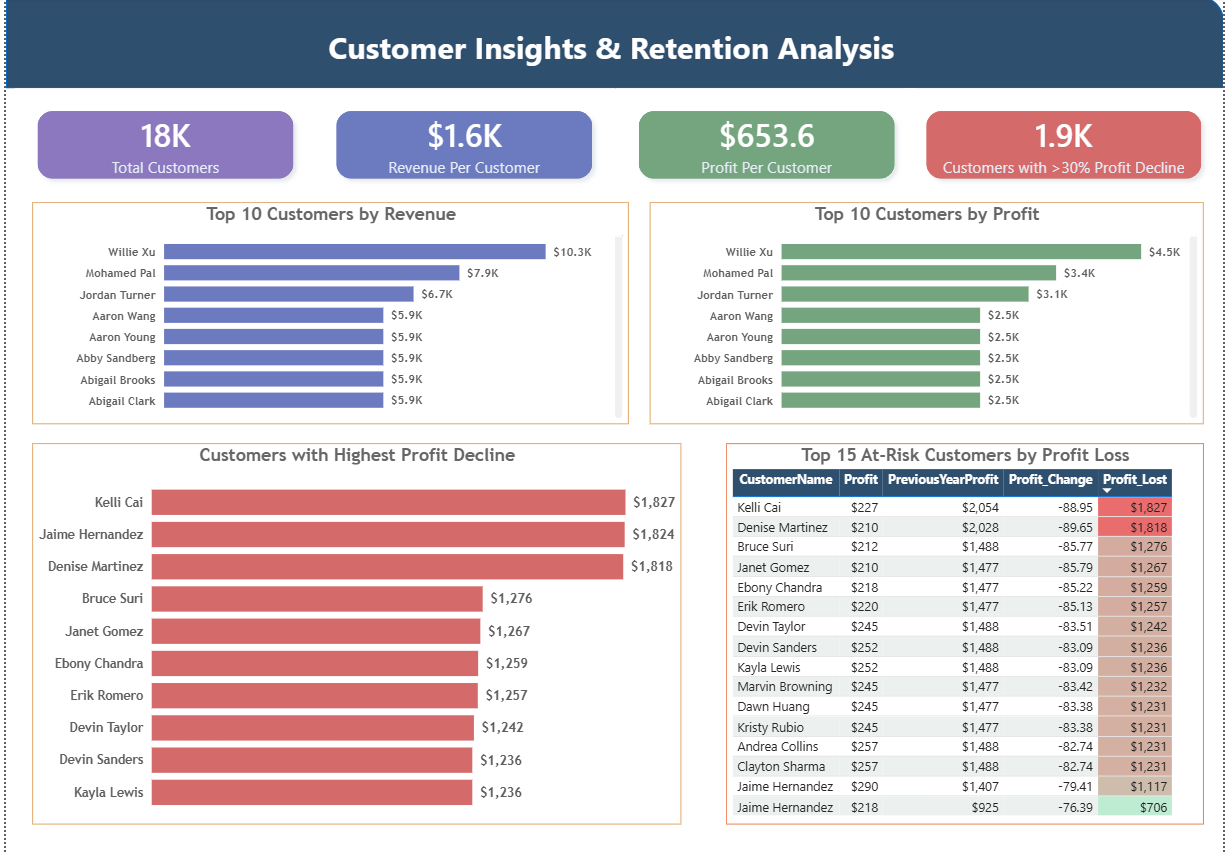

This screenshot's page, from the dashboard's own definition file:
{"tool":"powerbi","page":{"name":"Customer Insights & Retention Analysis","canvas":[1280,900],"ordinal":2},"visuals":[{"type":"shape","box":[0,0,1280.3,96.2],"z":0},{"type":"cardVisual","fields":{"Data":["Measure Table 1.Customers"]},"box":[8.7,96.2,317.3,119.9],"z":1000},{"type":"cardVisual","fields":{"Data":["measure Table 3.Revenue Per Customer"]},"box":[323.5,96.2,317.3,119.9],"z":2000},{"type":"cardVisual","fields":{"Data":["measure Table 3.Profit Per Customer"]},"box":[640.8,96.2,317.3,119.9],"z":3000},{"type":"cardVisual","fields":{"Data":["measure Table 3.Customers with >30% Profit Decline"]},"box":[943,96.2,337.2,119.9],"z":4000},{"type":"clusteredBarChart","title":"Top 10 Customers by Revenue","fields":{"Category":["DimCustomer.Full Name"],"Y":["Measure Table 1.Revenue"]},"box":[27.5,216.1,627,233.6],"z":5000},{"type":"clusteredBarChart","title":"Top 10 Customers by Profit","fields":{"Category":["DimCustomer.Full Name"],"Y":["Measure Table 1.Profit"]},"box":[677,216.1,582,233.6],"z":6000},{"type":"clusteredBarChart","title":"Customers with Highest Profit Decline","fields":{"Category":["vw_CustomerProfitDecline.CustomerName"],"Y":["Sum(vw_CustomerProfitDecline.Profit_Lost)"]},"box":[27.6,469.2,682.1,400.8],"z":7000},{"type":"tableEx","title":"Top 15 At-Risk Customers by Profit Loss","fields":{"Values":["vw_CustomerProfitDecline.CustomerName","vw_CustomerProfitDecline.Profit","vw_CustomerProfitDecline.PreviousYearProfit","vw_CustomerProfitDecline.Profit_Change","vw_CustomerProfitDecline.Profit_Lost"]},"box":[757,469.2,502,400.8],"z":8000}]}

Visuals, with their boxes in screenshot pixels (x1, y1, x2, y2), scaled from the page's 1280x900 canvas onto the 1225x853 screenshot:
shape: (0,0,1224,91)
cardVisual - Measure Table 1.Customers: (8,91,312,205)
cardVisual - measure Table 3.Revenue Per Customer: (310,91,613,205)
cardVisual - measure Table 3.Profit Per Customer: (613,91,917,205)
cardVisual - measure Table 3.Customers with >30% Profit Decline: (902,91,1224,205)
"Top 10 Customers by Revenue" clusteredBarChart: (26,205,626,426)
"Top 10 Customers by Profit" clusteredBarChart: (648,205,1205,426)
"Customers with Highest Profit Decline" clusteredBarChart: (26,445,679,825)
"Top 15 At-Risk Customers by Profit Loss" tableEx: (724,445,1205,825)
